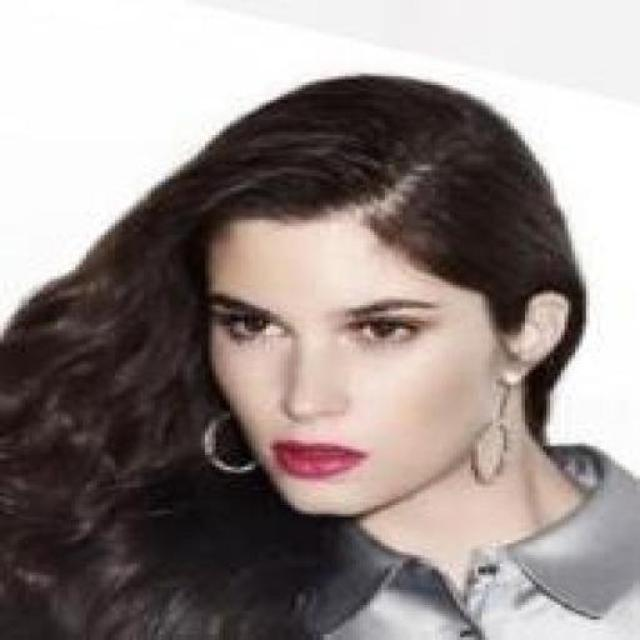bareface: (178, 110, 542, 536)
